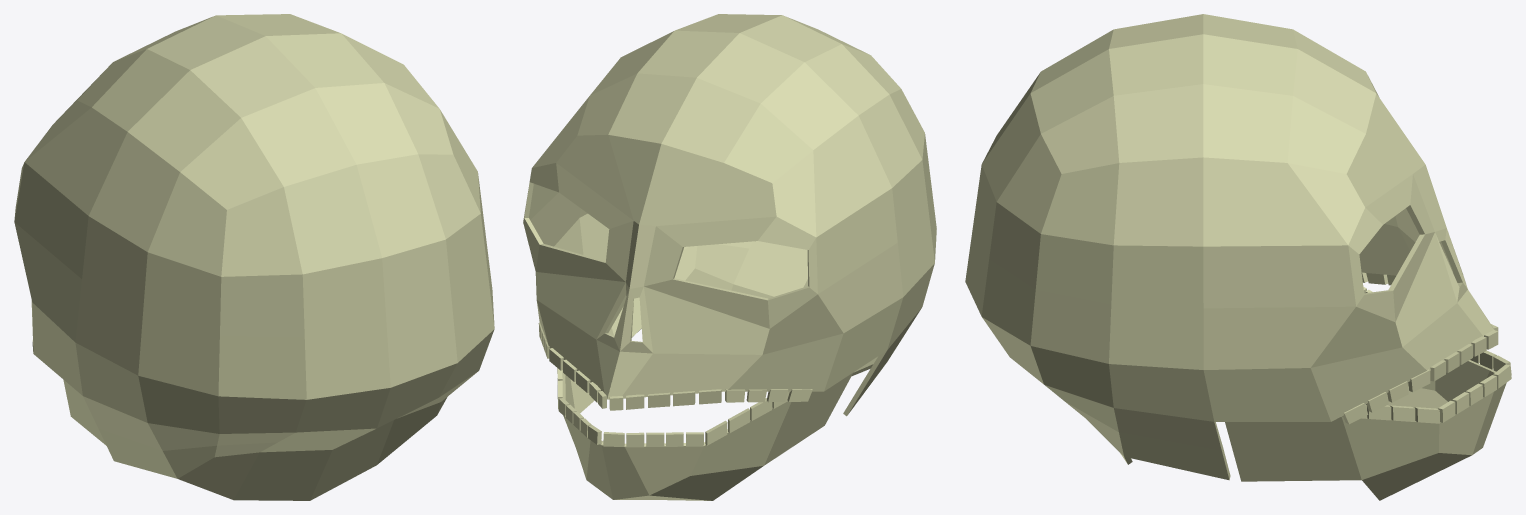
The model's file is Skull.fbx.
The picture shows the model from 3 angles, left to right: view 1: azimuth 30°, elevation 25°; view 2: azimuth 150°, elevation 25°; view 3: azimuth 270°, elevation 25°; orthographic projection. The views are drawn at different scales.
Visible parts, largest first — view 1: Skull; view 2: Skull; view 3: Skull.
Part boxes in pixels (bbox=[...]): Skull: bbox=[14, 14, 494, 500]; Skull: bbox=[523, 14, 936, 500]; Skull: bbox=[965, 14, 1511, 500].
Bounding box in the file's own units: 37.97 × 45.18 × 49.65.
